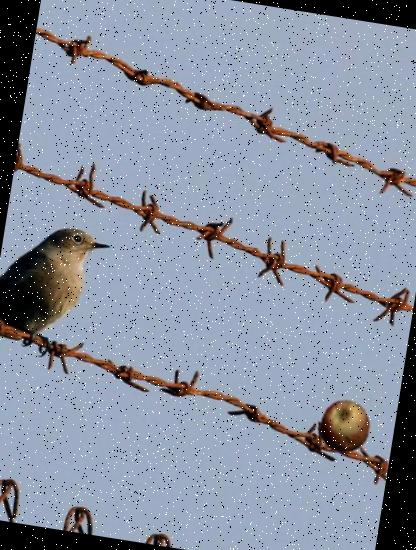Apple: (314, 396, 376, 458)
